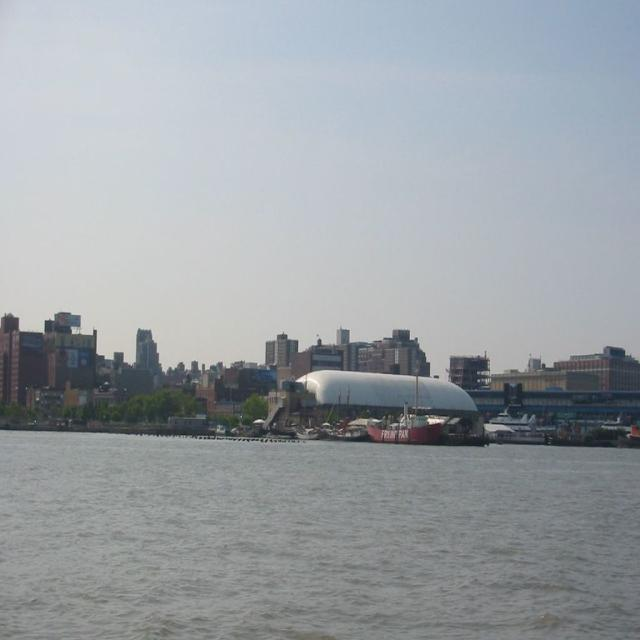Boat: (362, 372, 446, 451)
